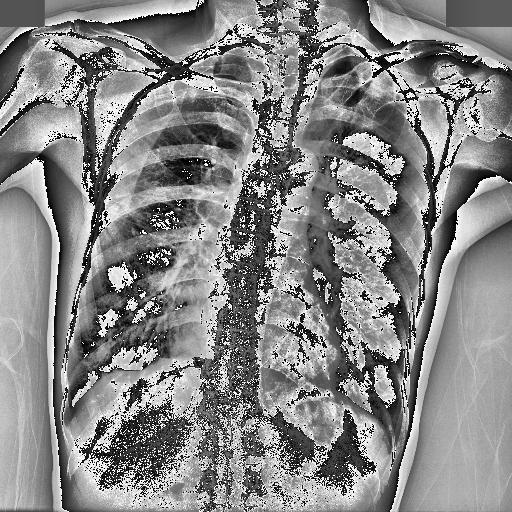10- Pleural effusion: (61, 400, 78, 434)
11- Pleural thickening: (314, 54, 368, 72), (92, 366, 126, 386), (61, 400, 78, 434), (146, 347, 172, 367), (190, 54, 226, 68)
13- Pulmonary fibrosis: (98, 117, 196, 259), (103, 191, 195, 235), (70, 336, 120, 380)
9- Other lesion: (200, 44, 320, 418), (96, 354, 166, 386)
